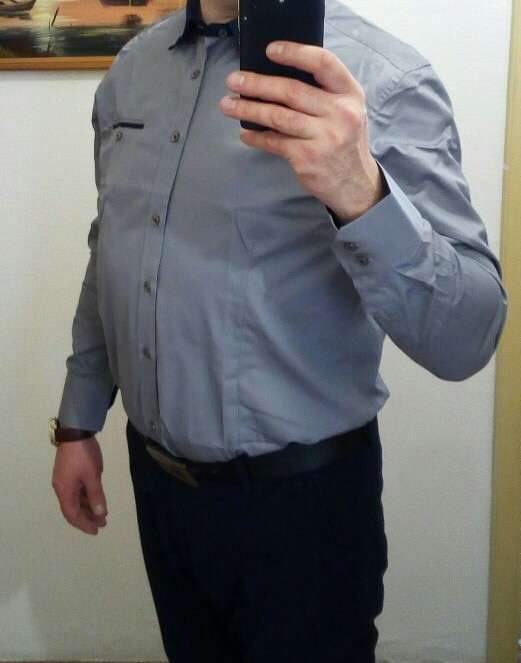shirts: (49, 5, 502, 450)
